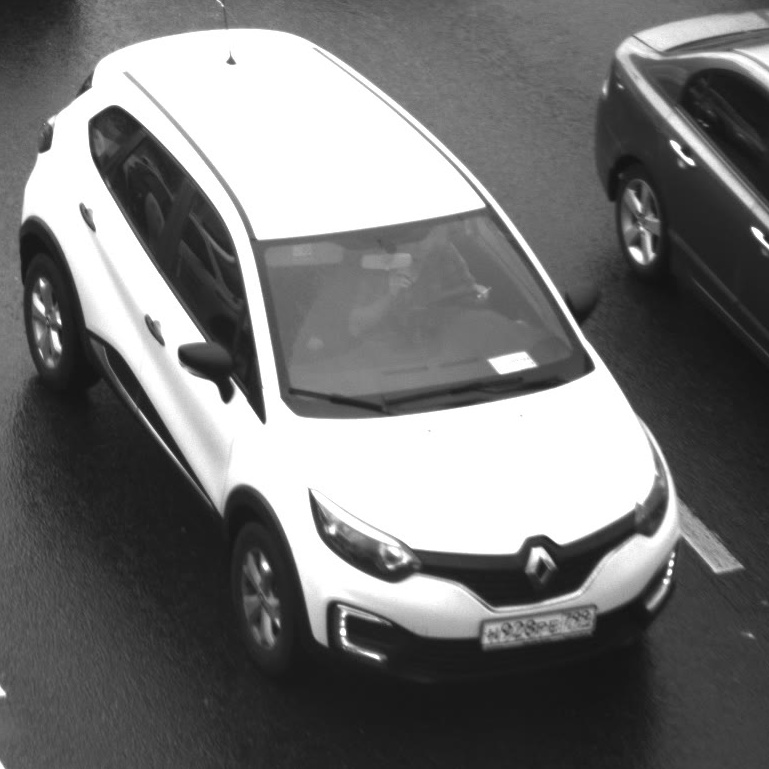plate: (470, 594, 607, 650)
